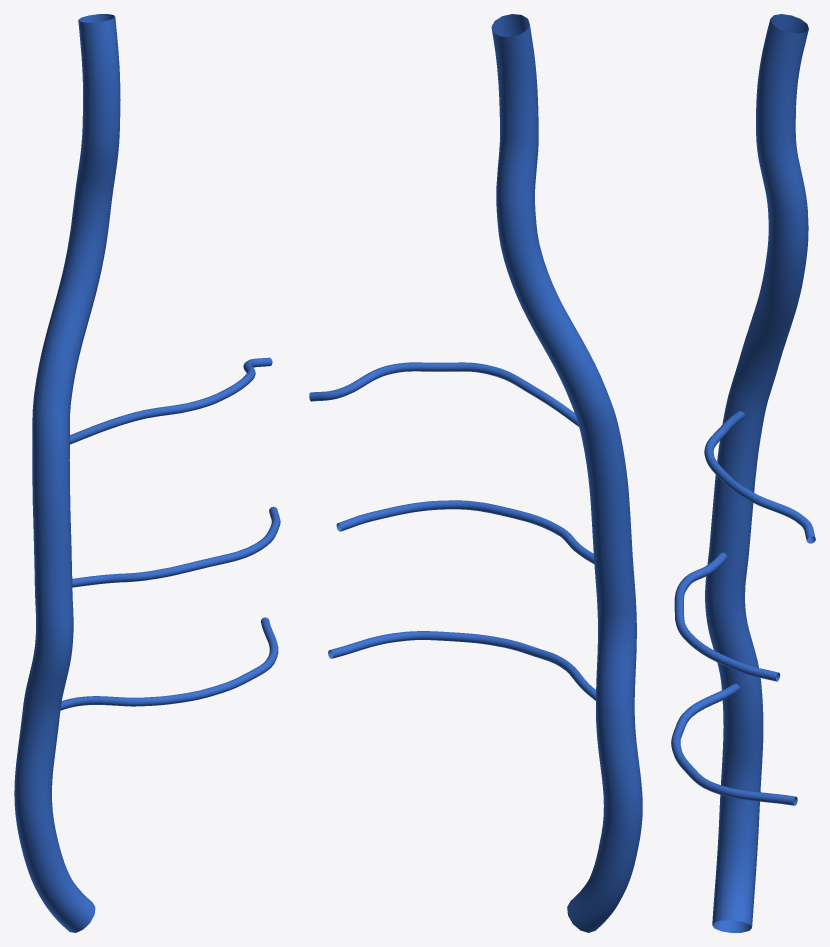
File: circulatorio-right-ascending-lumbar-vein.glb
3 views of the same model, side by side, from view 1: azimuth 30°, elevation 25°; view 2: azimuth 150°, elevation 25°; view 3: azimuth 270°, elevation 25° (orthographic). The views are drawn at different scales.
Visible parts, largest first — view 1: Right ascending lumbar vein; view 2: Right ascending lumbar vein; view 3: Right ascending lumbar vein.
Part boxes in pixels (box(x1,y1,x2,y2)): Right ascending lumbar vein: box(14, 14, 280, 932); Right ascending lumbar vein: box(309, 14, 642, 932); Right ascending lumbar vein: box(671, 14, 815, 932).
Size of the model in its own units: 0.0529 by 0.156 by 0.0217.
